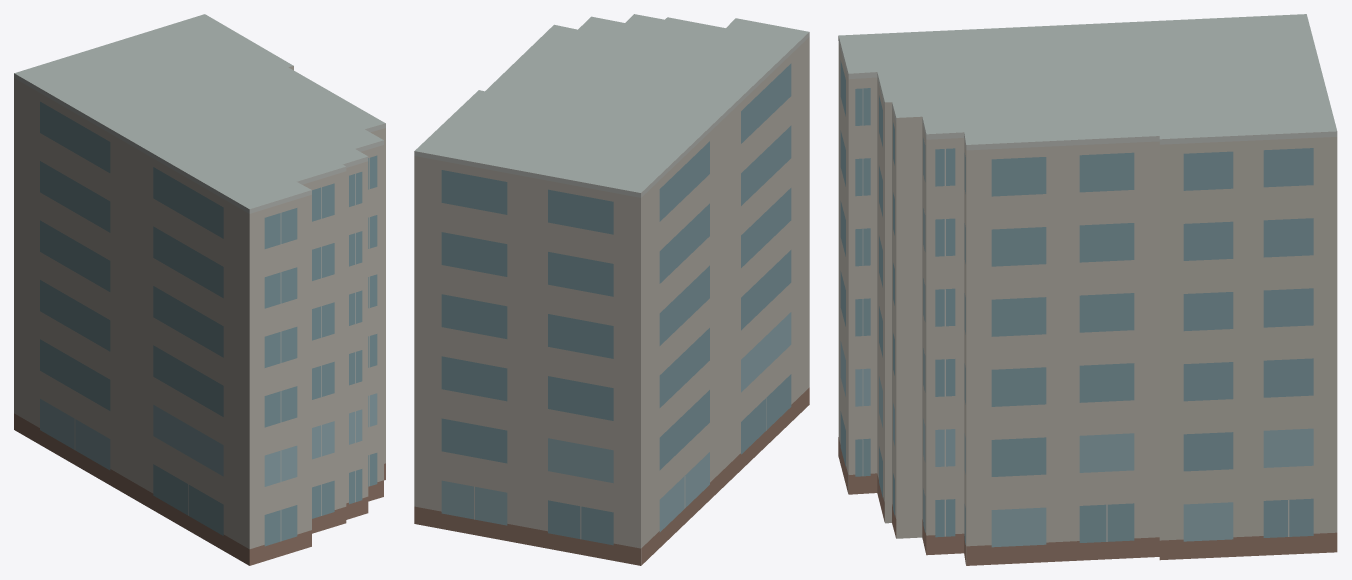
Rendered from survey-upis-32567477.glb.
The picture shows the model from 3 angles, left to right: view 1: azimuth 30°, elevation 25°; view 2: azimuth 150°, elevation 25°; view 3: azimuth 270°, elevation 25°; orthographic projection. The views are drawn at different scales.
Visible parts, largest first — view 1: survey-upis-32567477.tmp; view 2: survey-upis-32567477.tmp; view 3: survey-upis-32567477.tmp.
Part boxes in pixels (bbox=[...]): survey-upis-32567477.tmp: bbox=[14, 14, 385, 565]; survey-upis-32567477.tmp: bbox=[414, 14, 809, 565]; survey-upis-32567477.tmp: bbox=[838, 14, 1337, 565].
Bounding box in the file's own units: 12.56 × 18.8 × 20.21.
